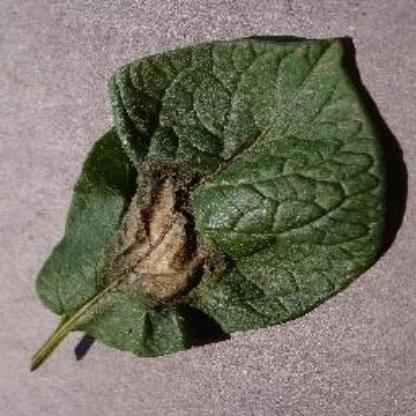Late-Blight: (26, 4, 400, 378)
